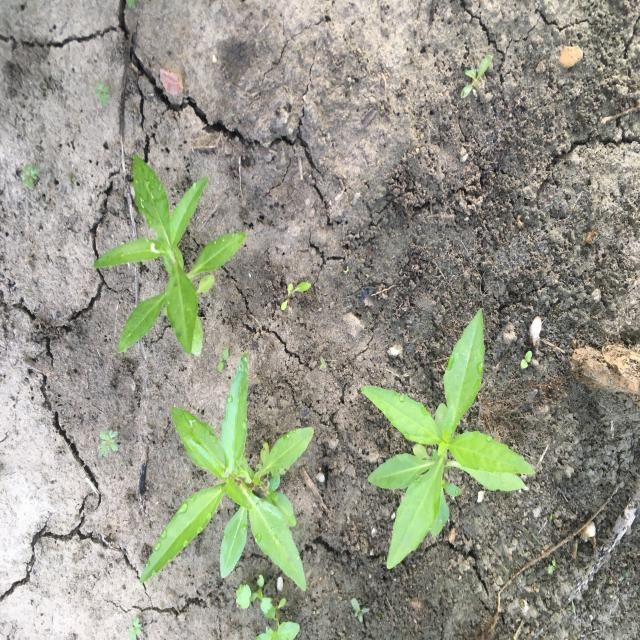Eclipta: (358, 308, 536, 570), (138, 351, 316, 594), (92, 153, 248, 359)
